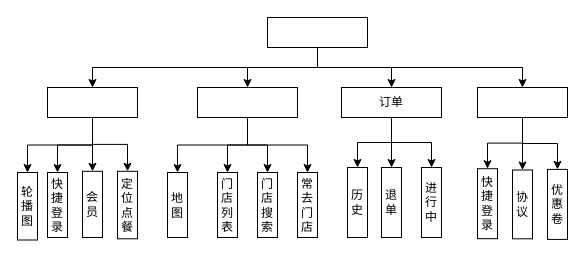
The diagram is 585 pixels wide and 258 high, and some of its shapes have lost their labels. The shapes that lost their labels are listed below. From the top down, each one's box as (x1, y1, x2, y2) in pixels, then its label:
(266, 16, 368, 48): 用户
(46, 86, 138, 118): 首页
(196, 86, 298, 118): 点餐
(476, 86, 568, 118): 我的
